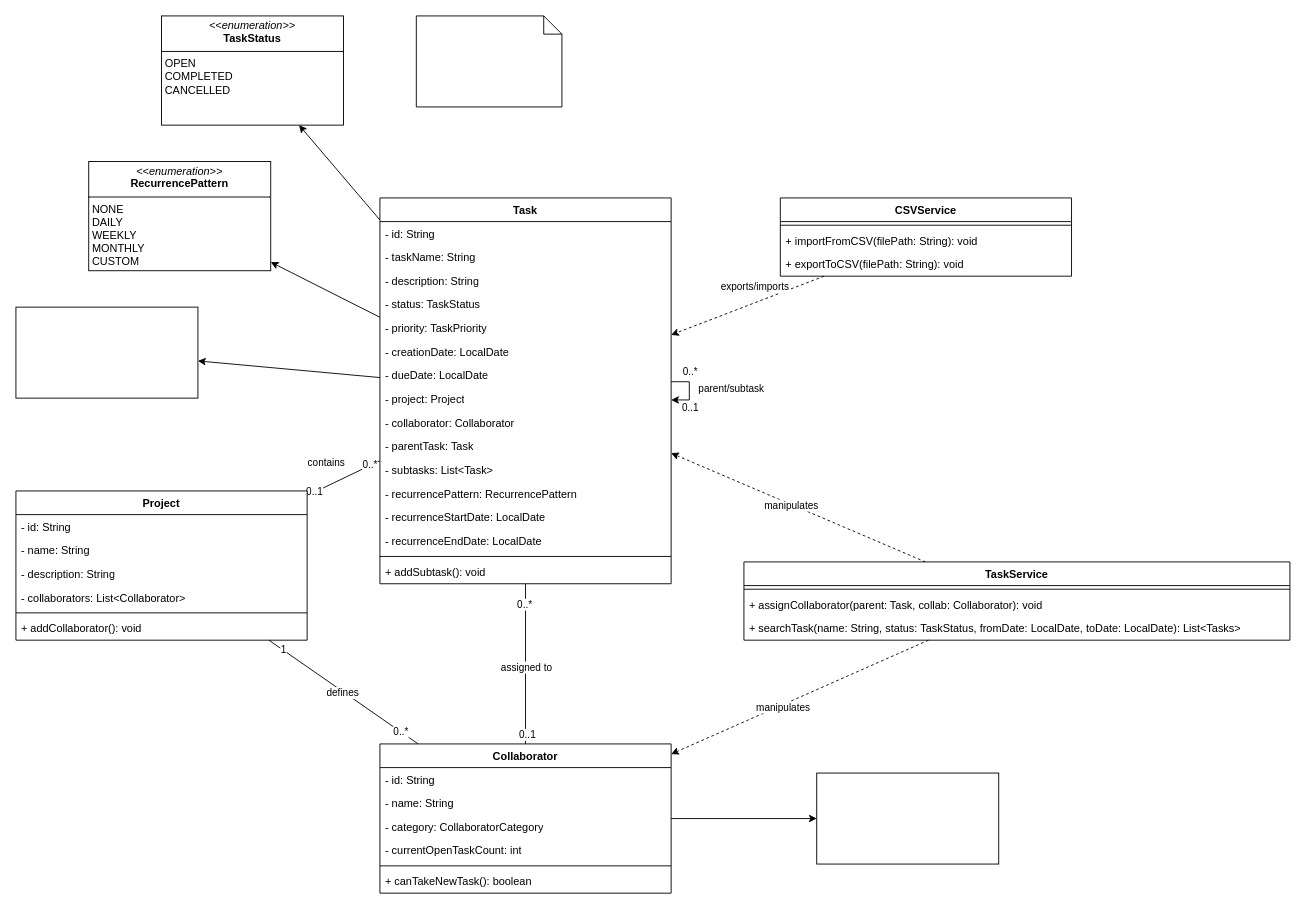
The diagram is 1306 pixels wide and 912 high, and some of its shapes have lost their labels. Here are the shapes that lost their labels. From the top down, the centre of each, then its label:
At pixel 488 61: "Assume Setters and Getters for all private fields of all classses".
At pixel 106 352: "<<enumeration>> TaskPriority HIGH MEDUIM LOW".
At pixel 907 818: "<<enumeration>> ColaboratorCategory SENIOR INTERMEDIATE JUNIOR".
